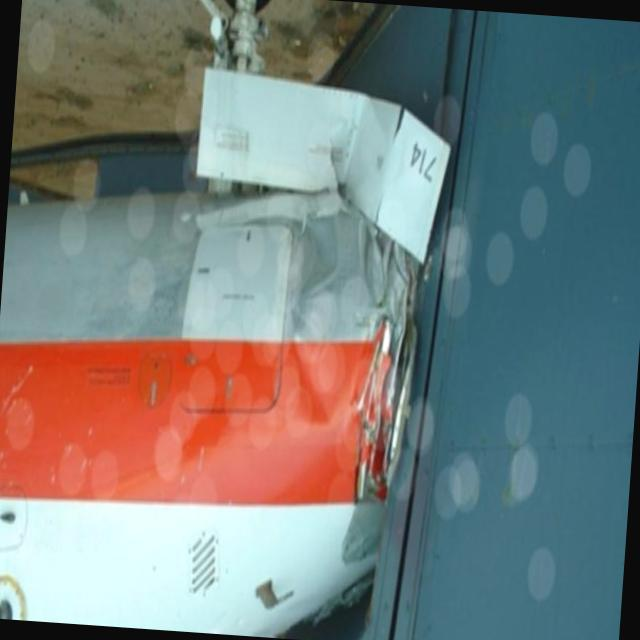dent: (282, 202, 354, 420)
